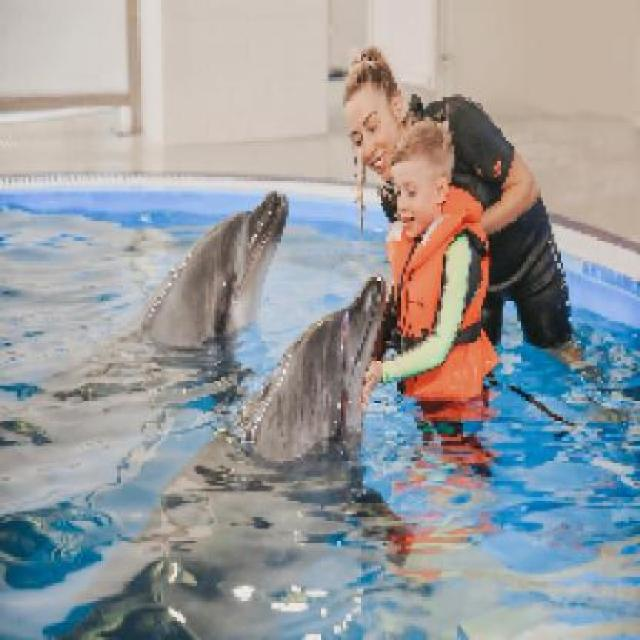child: (364, 117, 502, 414)
